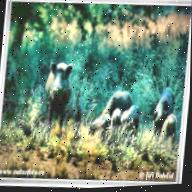boar: (37, 52, 92, 130)
